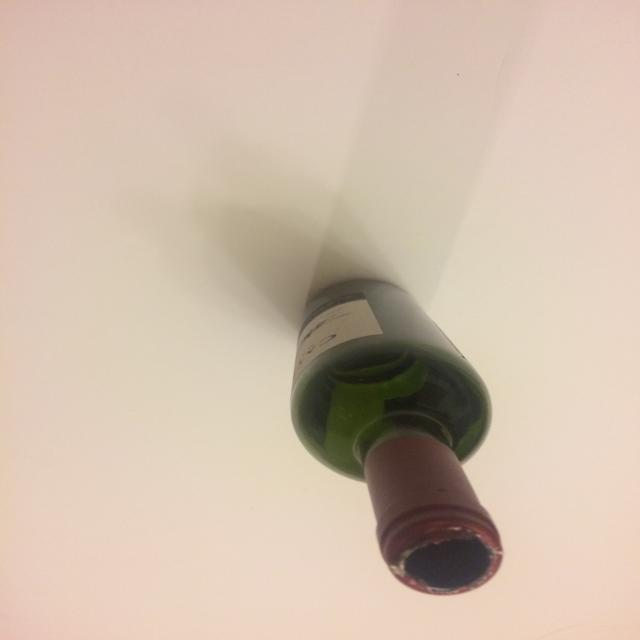glass: (262, 256, 577, 606)
